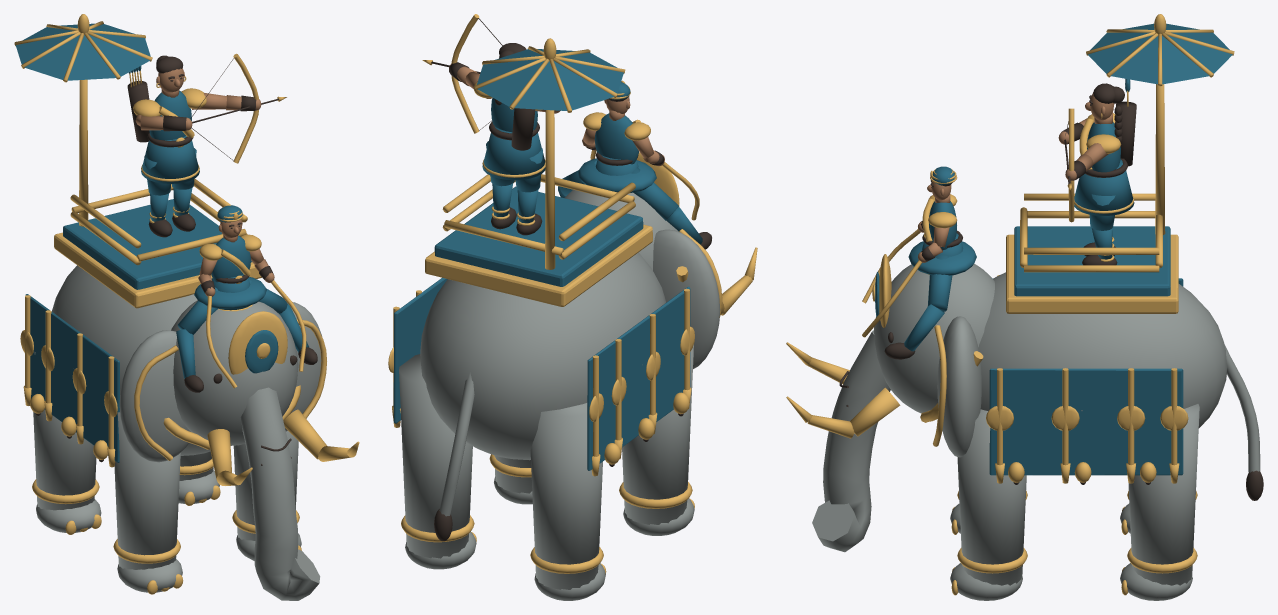
Rendered from elephant.glb.
3 renders of one model, left to right at view 1: azimuth 30°, elevation 25°; view 2: azimuth 150°, elevation 25°; view 3: azimuth 270°, elevation 25°, orthographic. The views are drawn at different scales.
Visible parts, largest first — view 1: elephant; view 2: elephant; view 3: elephant.
Part boxes in pixels (x1=…): elephant: x1=14, y1=14, x2=359, y2=600; elephant: x1=388, y1=14, x2=757, y2=600; elephant: x1=786, y1=14, x2=1263, y2=600.
Bounding box in the file's own units: 1.56 × 3.41 × 2.79.
